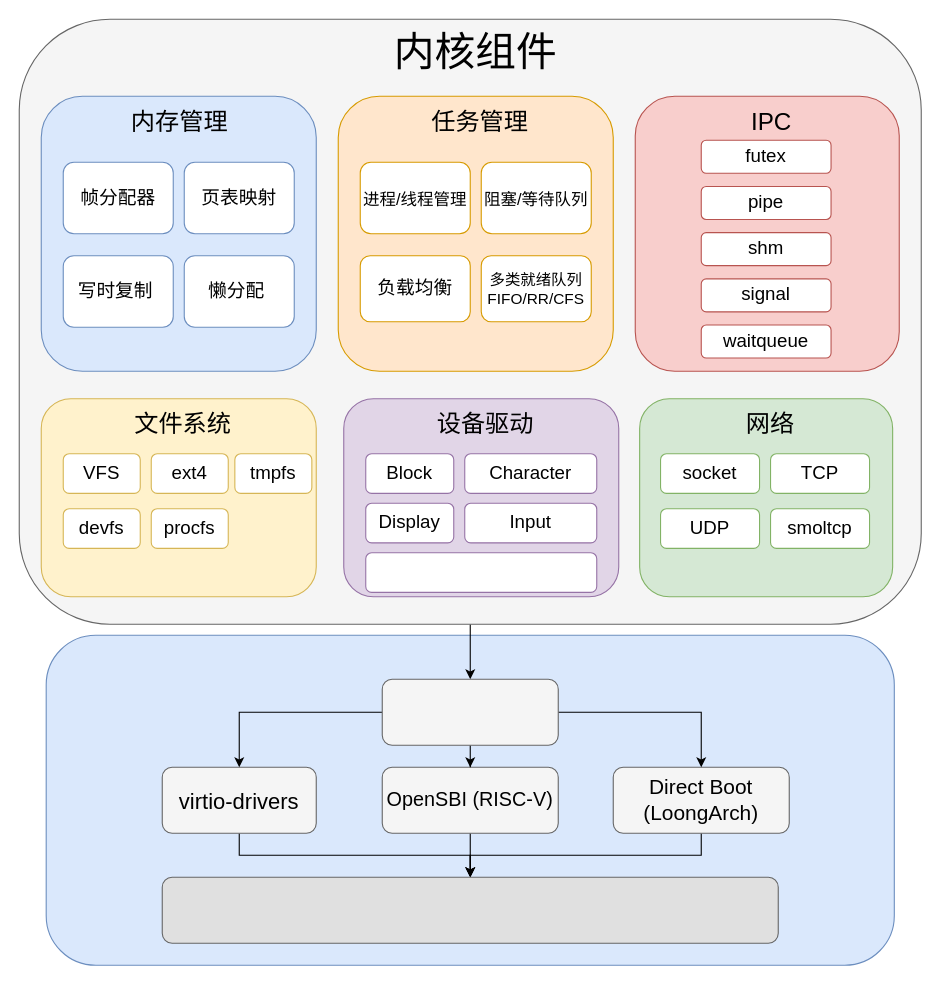
Image size: 941x985. Some labels were removed from this diagram. Here are the shapes that lost their labels. From the top down, the centre of each, then its label:
At [481,572]: "Network".
At [469,711]: "Platform架构分离".
At [469,909]: "HardWare".
